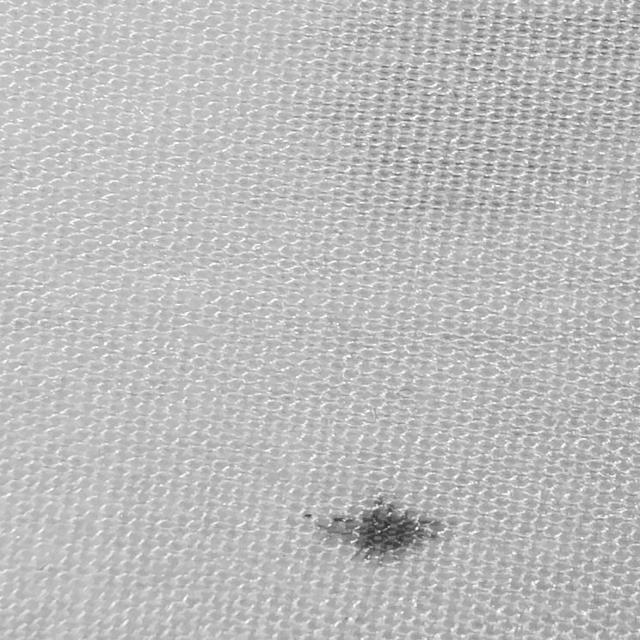Stain: (322, 498, 451, 562)
